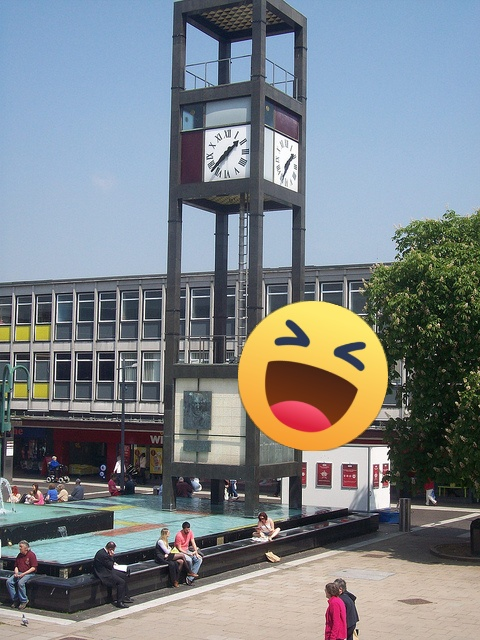haha: (238, 301, 388, 451)
